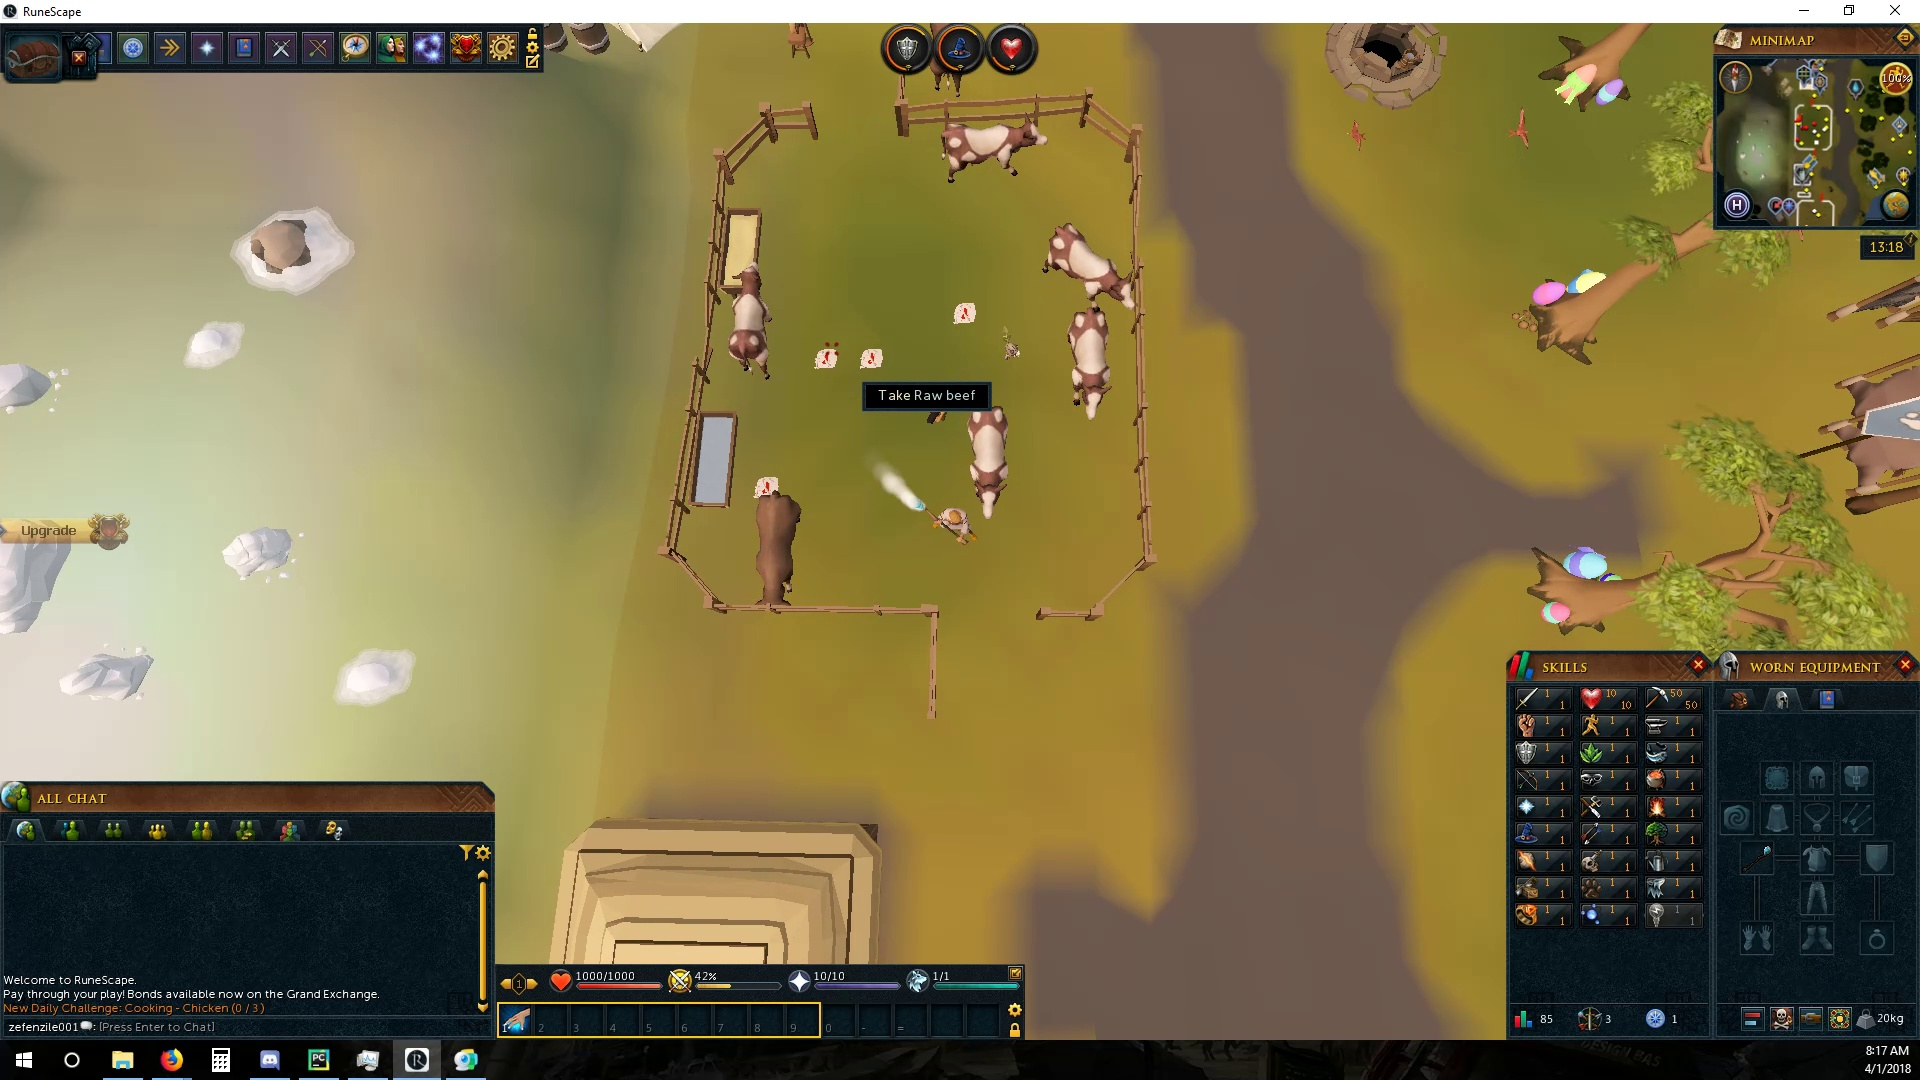cow: (1042, 222, 1139, 315), (939, 113, 1050, 186), (749, 491, 803, 615), (728, 260, 779, 382), (965, 406, 1013, 522), (1065, 306, 1112, 418)
cow_drop: (810, 347, 843, 375), (953, 301, 982, 331), (861, 343, 885, 373), (753, 473, 785, 495)
